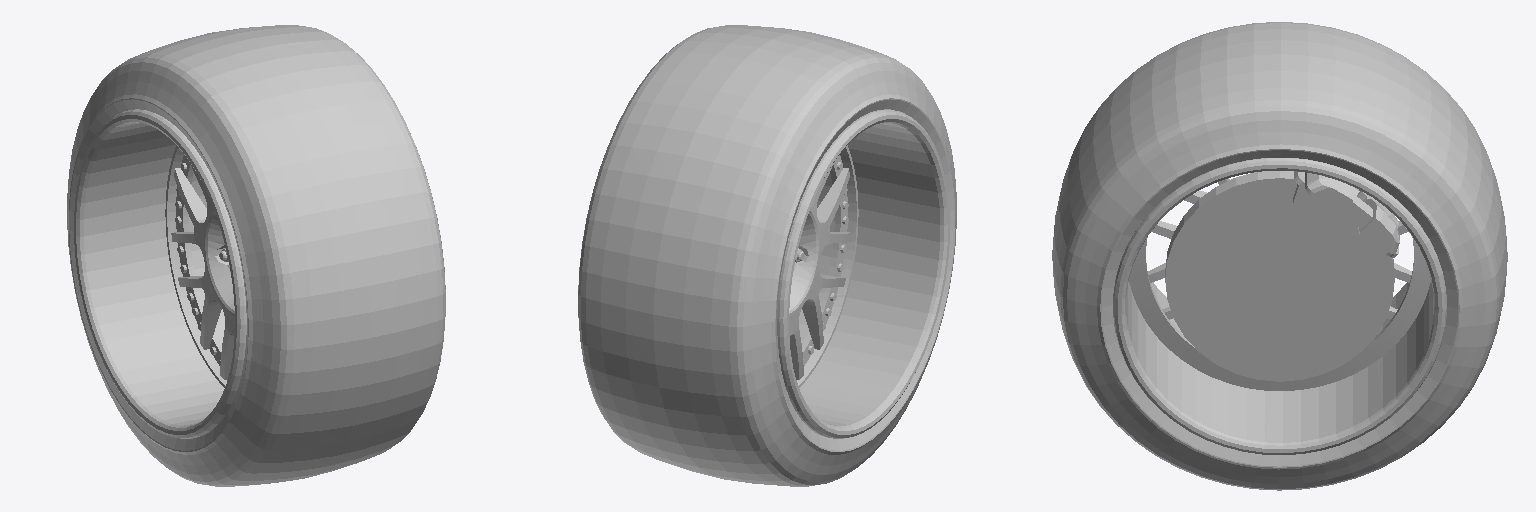
Rendered from Llanta_Trasera_Der.obj.
3 renders of one model, left to right at view 1: azimuth 30°, elevation 25°; view 2: azimuth 150°, elevation 25°; view 3: azimuth 270°, elevation 25°, orthographic.
Visible parts, largest first — view 1: Llanta_Trasera_Der; view 2: Llanta_Trasera_Der; view 3: Llanta_Trasera_Der.
Boxes of the visible parts, x1=… form: Llanta_Trasera_Der: x1=67, y1=25, x2=445, y2=486; Llanta_Trasera_Der: x1=578, y1=25, x2=956, y2=486; Llanta_Trasera_Der: x1=1052, y1=22, x2=1507, y2=490.
Size of the model in its own units: 1.08 by 2 by 2.